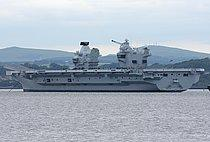MIL_Ship: (7, 38, 206, 93)
